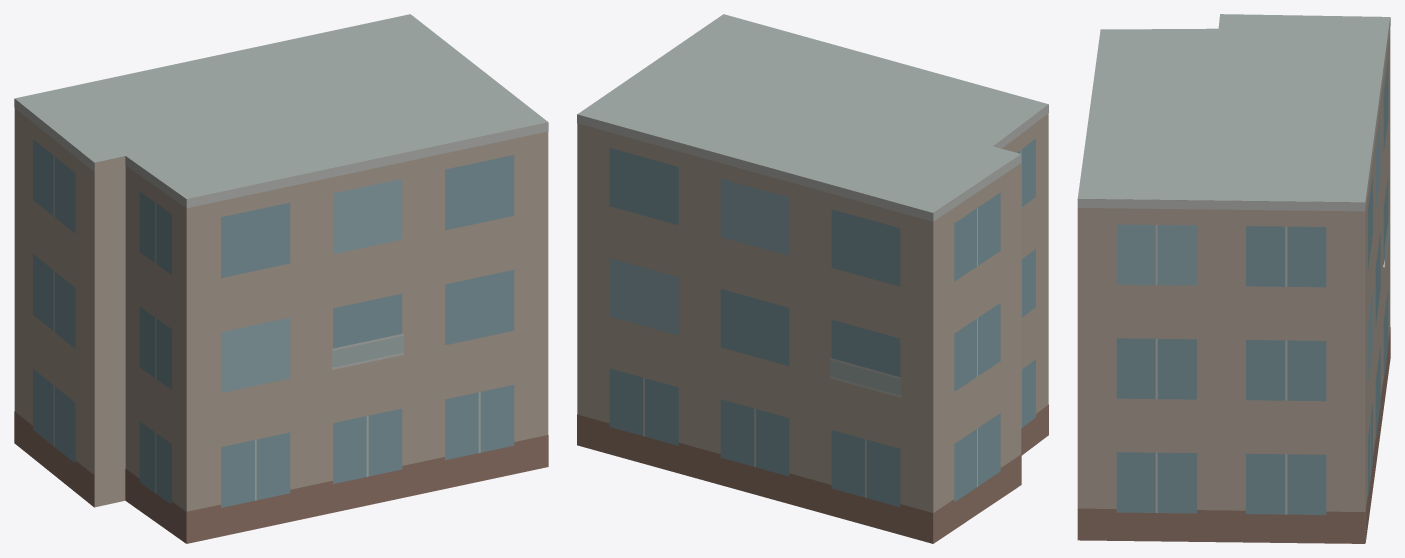
The model's file is survey-upis-32716627.glb.
3 views of the same model, side by side, from view 1: azimuth 30°, elevation 25°; view 2: azimuth 150°, elevation 25°; view 3: azimuth 270°, elevation 25° (orthographic). The views are drawn at different scales.
Parts seen in each view (by area): view 1: survey-upis-32716627.tmp; view 2: survey-upis-32716627.tmp; view 3: survey-upis-32716627.tmp.
Part boxes in pixels (left/top/right/bottom): survey-upis-32716627.tmp: left=14, top=14, right=548, bottom=543; survey-upis-32716627.tmp: left=577, top=14, right=1048, bottom=543; survey-upis-32716627.tmp: left=1077, top=14, right=1390, bottom=543.
Size of the model in its own units: 10.83 by 9.15 by 7.6.
